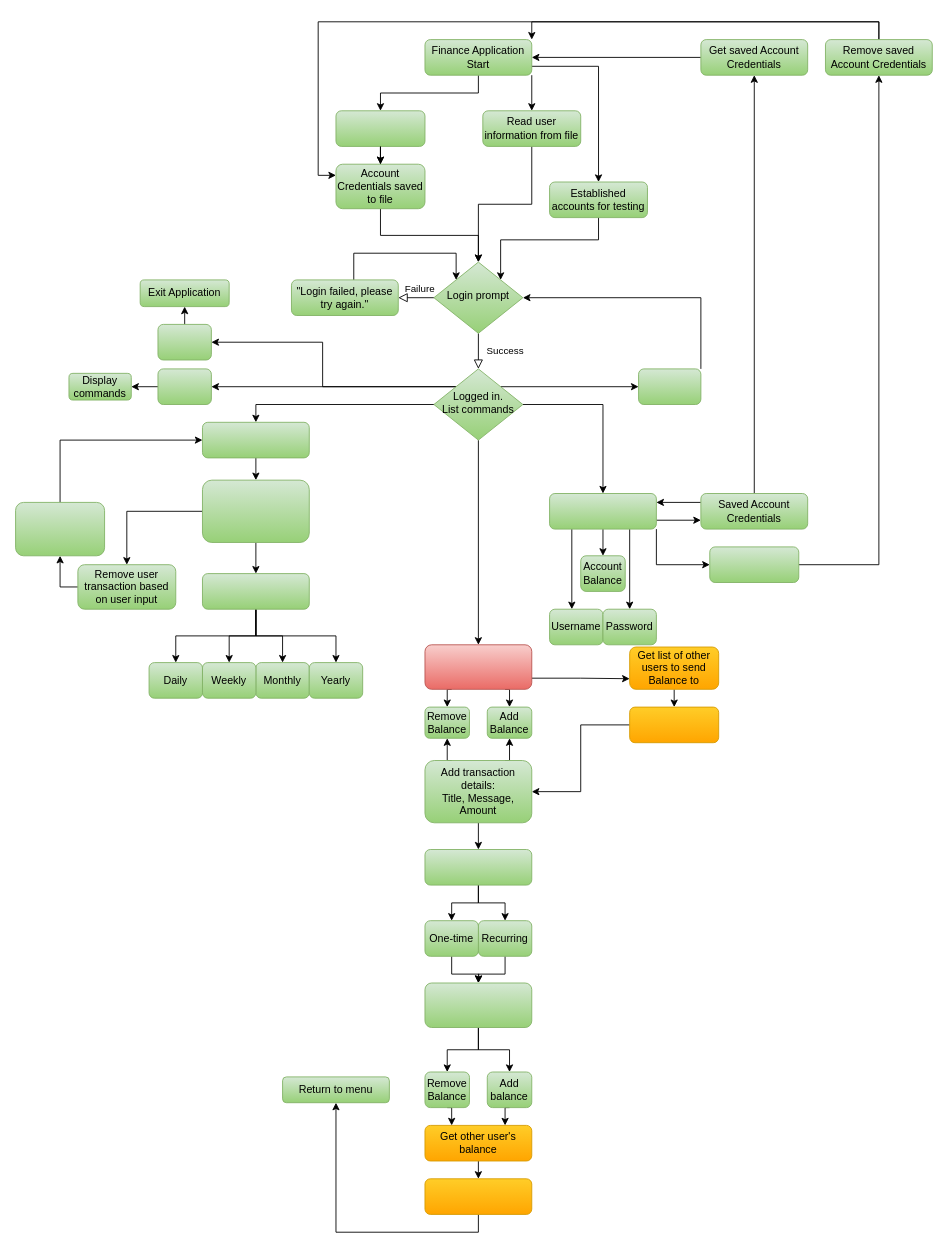
The diagram is 948 pixels wide and 1255 high, and some of its shapes have lost their labels. The shapes that lost their labels are listed below. From the top down, each one's centre as x and y in pixels, then its label:
(x=380, y=128): Register Account
(x=184, y=342): "Stop"
(x=184, y=386): "Help"
(x=669, y=386): Logout
(x=255, y=439): Transaction History
(x=60, y=529): Replace history_(user).txt upon transaction removal
(x=255, y=510): Read history from history_(user).txt file and output into terminal
(x=602, y=511): Check Account Details
(x=754, y=564): Remove Account
(x=255, y=591): Sort by time
(x=478, y=666): Create Transaction (Only has half of the functions I wanted)
(x=674, y=724): Select user to send to
(x=478, y=867): Select transaction type
(x=478, y=1005): Check if user has enough balance to cover transaction
(x=478, y=1196): Add sent Balance to other user
